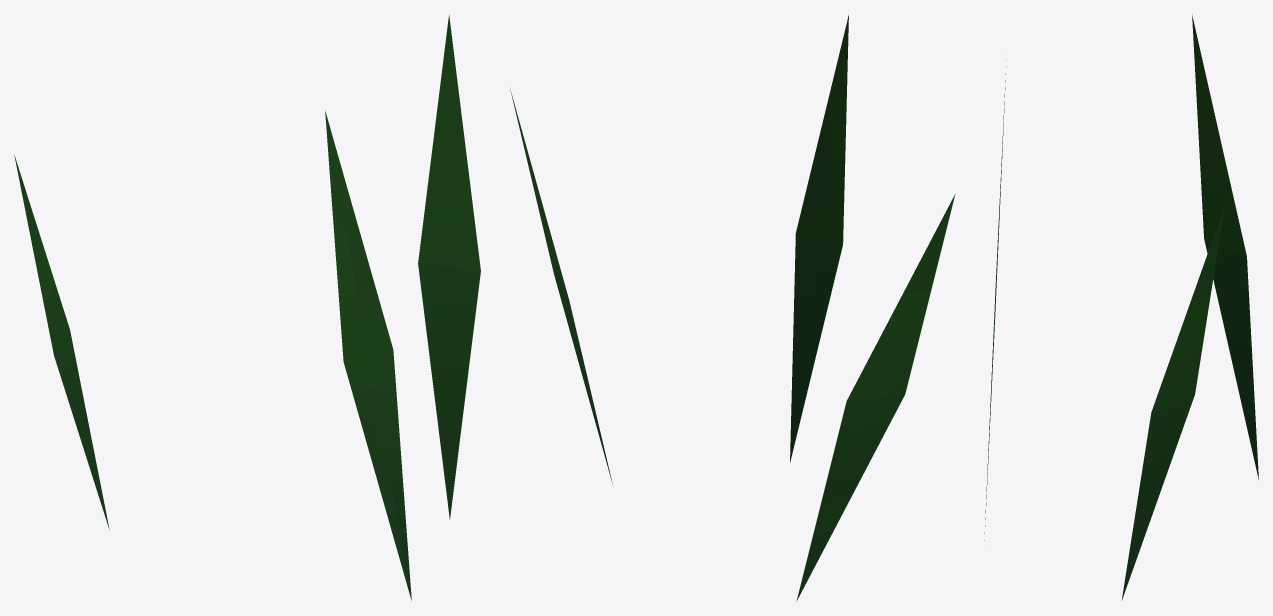
The model's file is plants_me_main_grass41.gltf.
The picture shows the model from 3 angles, left to right: view 1: azimuth 30°, elevation 25°; view 2: azimuth 150°, elevation 25°; view 3: azimuth 270°, elevation 25°; orthographic projection. The views are drawn at different scales.
Parts seen in each view (by area): view 1: plants_me_main_grass41; view 2: plants_me_main_grass41; view 3: plants_me_main_grass41.
Part boxes in pixels (box(x1,y1,x2,y2)): plants_me_main_grass41: box(14, 14, 480, 601); plants_me_main_grass41: box(510, 15, 955, 601); plants_me_main_grass41: box(984, 14, 1258, 600).
Bounding box in the file's own units: 0.4252 × 0.45 × 0.24.
Materials: 1 (1 with a texture image).
